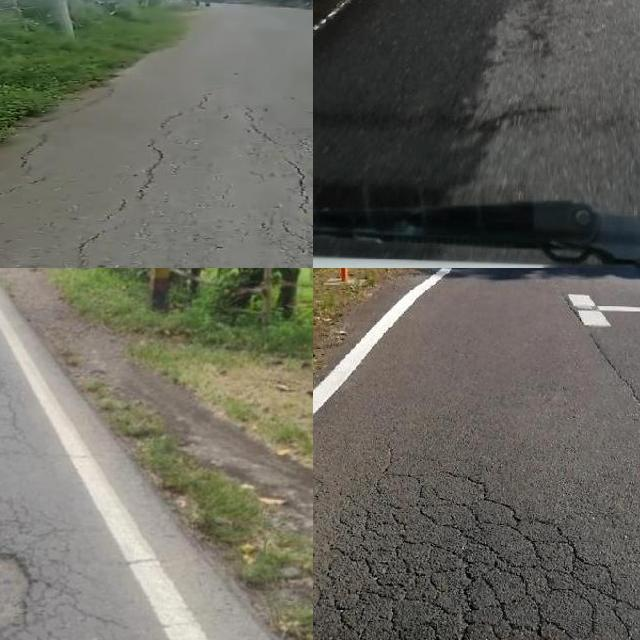Lubang: (0, 557, 32, 634)
Retak Buaya: (313, 447, 640, 640)
